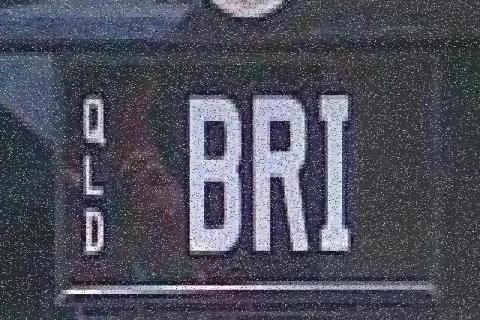LicensePlate: (59, 51, 441, 287)
